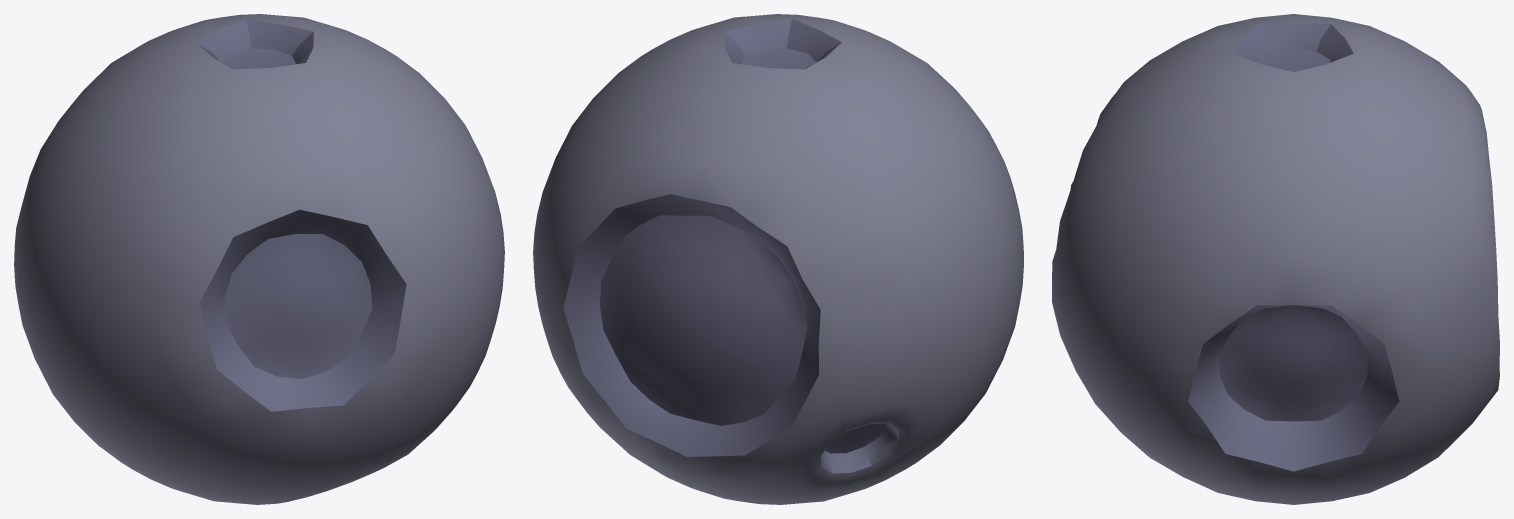
The model's file is planet_ice.repacked.glb.
3 views of the same model, side by side, from view 1: azimuth 30°, elevation 25°; view 2: azimuth 150°, elevation 25°; view 3: azimuth 270°, elevation 25° (orthographic).
Visible parts, largest first — view 1: Planet_3; view 2: Planet_3; view 3: Planet_3.
Part boxes in pixels (x1,y1,x2,y2): Planet_3: [14, 14, 504, 504]; Planet_3: [533, 14, 1023, 504]; Planet_3: [1052, 14, 1499, 504].
Size of the model in its own units: 3.66 by 3.68 by 3.41.
1 material, 1 textured.
